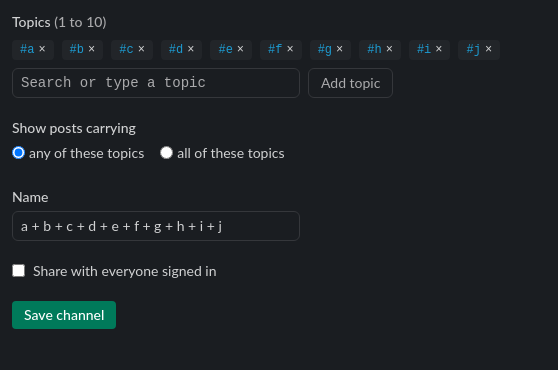
Test case: ChannelBuilder › should refuse to save when eleven topics are chosen
The image size is (558, 370).
Type "k" into the field labelled "Topics (1 to 10)" at x=156, y=83, box [12,68,300,98]
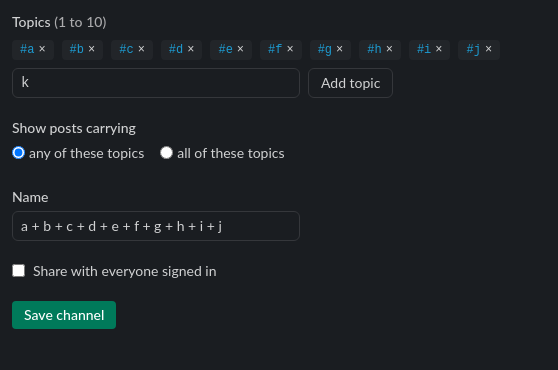
Press Enter in the field labelled "Topics (1 to 10)", box [12,68,300,98]
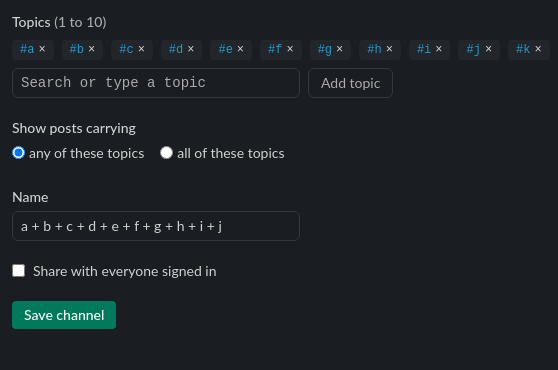
Click the button "Save channel" at x=64, y=314, box [12,300,116,328]
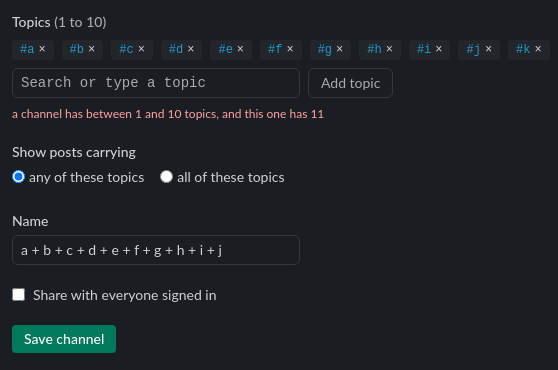
expect the message shows "this one has 11": met, box [12,106,324,121]
